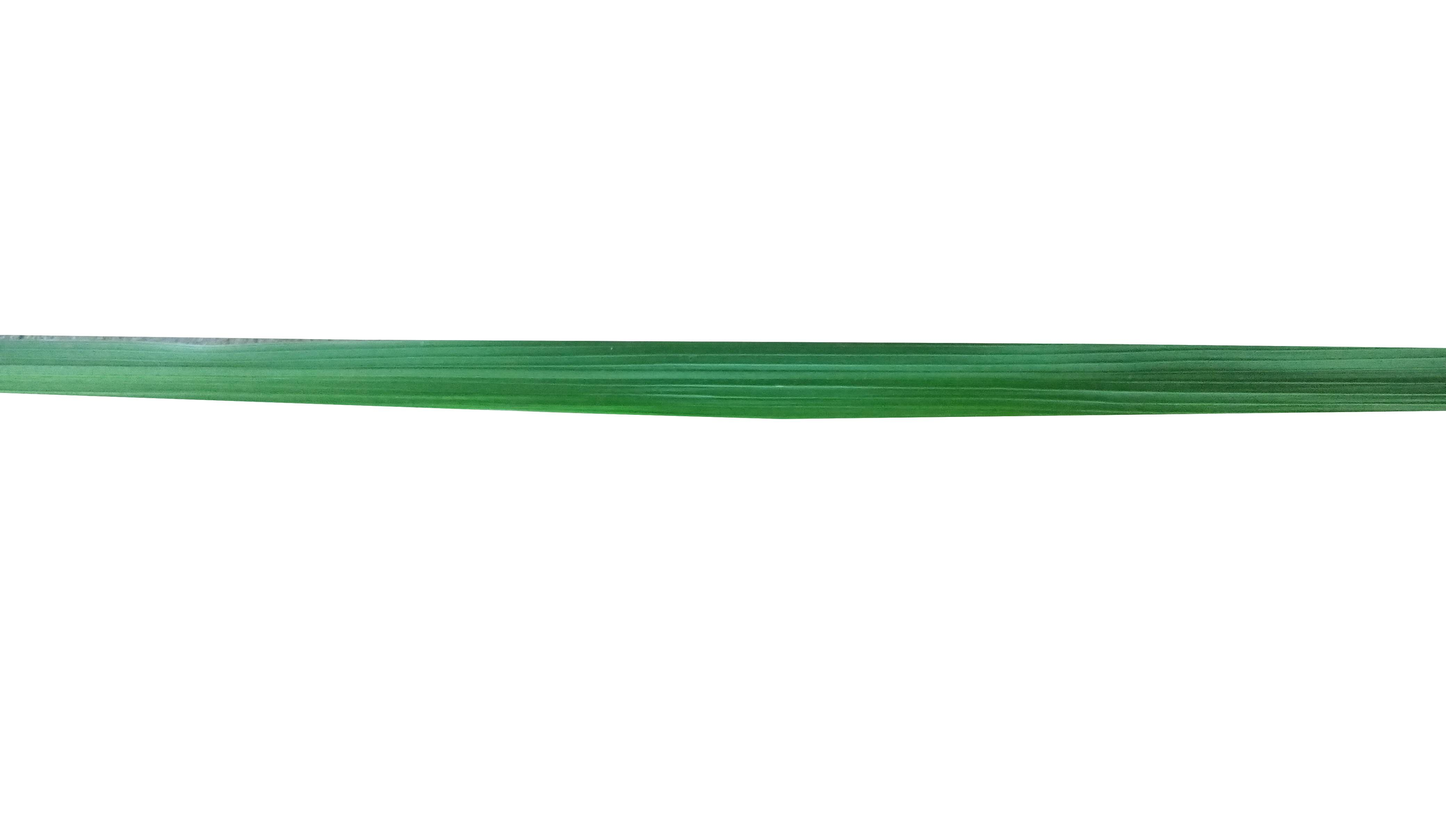Healthy: (2, 335, 1446, 416)
